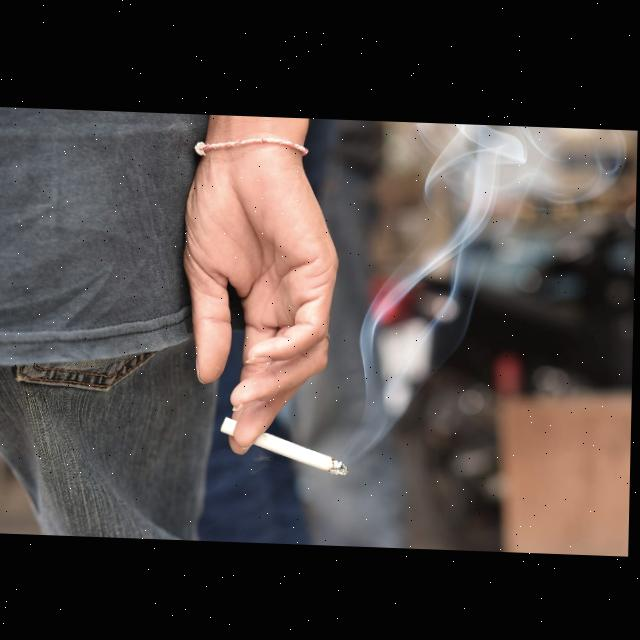cigarette: (221, 415, 352, 474)
